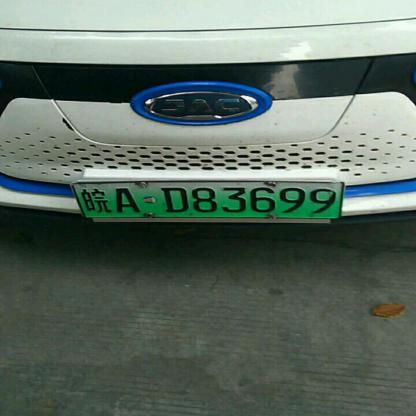lp: (73, 181, 344, 219)
